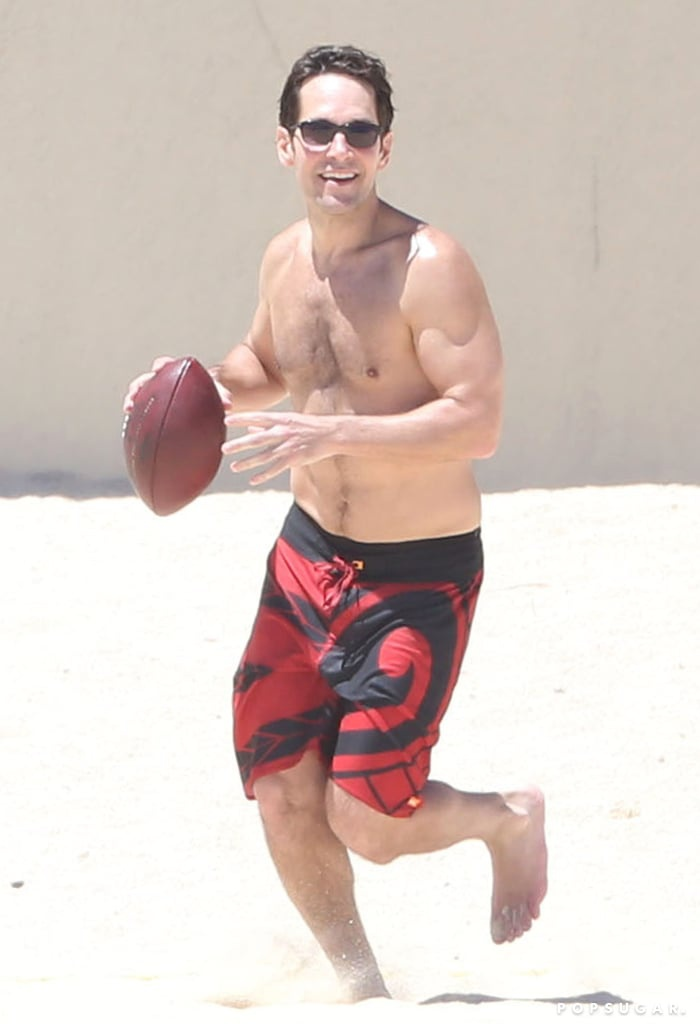bad: (282, 104, 390, 211)
